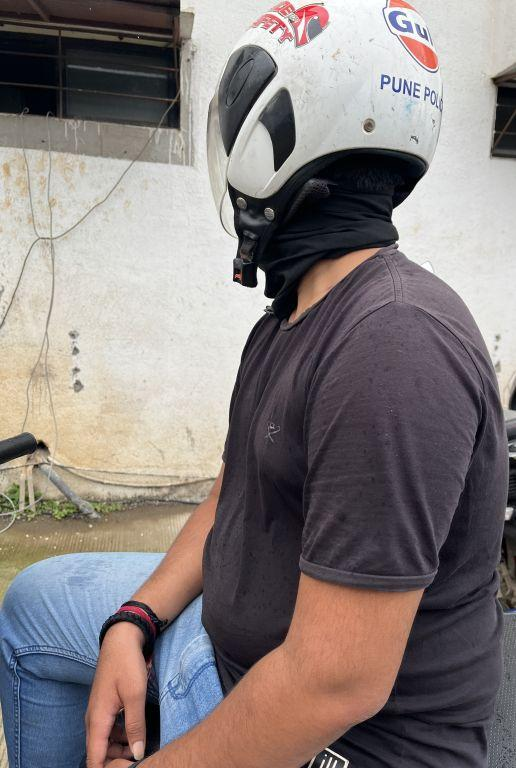helmet: (172, 0, 462, 244)
